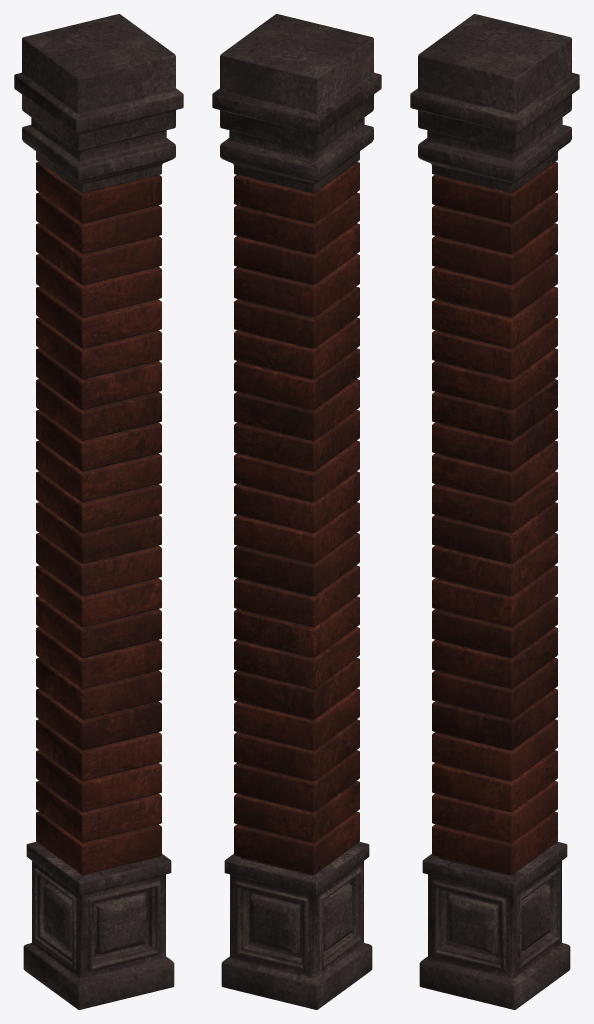
Rendered from SK2 PILLAR2.fbx.
The picture shows the model from 3 angles, left to right: view 1: azimuth 30°, elevation 25°; view 2: azimuth 150°, elevation 25°; view 3: azimuth 330°, elevation 25°; orthographic projection.
Parts seen in each view (by area): view 1: SK2 PILLAR2.030; view 2: SK2 PILLAR2.030; view 3: SK2 PILLAR2.030.
Part boxes in pixels (x1,y1,x2,y2): SK2 PILLAR2.030: [14, 14, 183, 1009]; SK2 PILLAR2.030: [212, 14, 381, 1009]; SK2 PILLAR2.030: [410, 14, 579, 1009].
Bounding box in the file's own units: 48.66 × 400 × 48.66.
